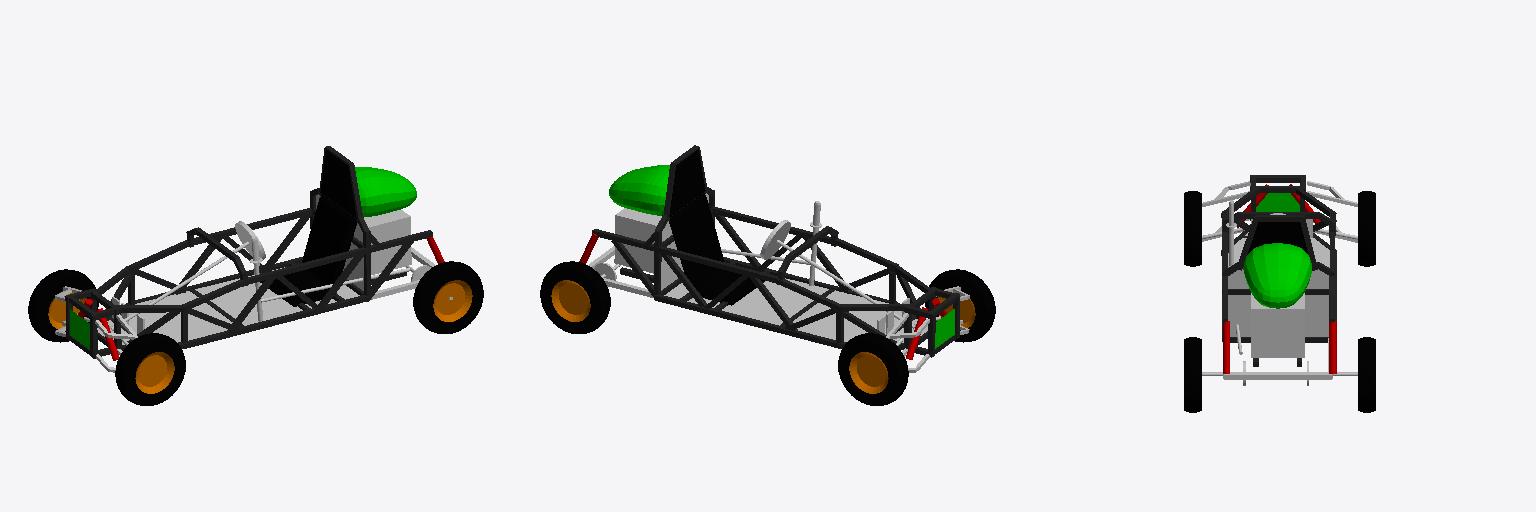
File: gokart.obj
3 views of the same model, side by side, from view 1: azimuth 30°, elevation 25°; view 2: azimuth 150°, elevation 25°; view 3: azimuth 270°, elevation 25° (orthographic).
Parts seen in each view (by area): view 1: Plane_Plane.005, Plane.001_Plane, Cylinder.003, Cylinder.019_Cylinder.022, Cylinder.006_Cylinder.009, Cube.062_Cube.025, Cube.003_Cube, Cube.006_Cube.003, Cube.060_Cube.057, Cube.020_Cube.063, Cube.005; view 2: Plane_Plane.005, Plane.001_Plane, Cylinder.006_Cylinder.009, Cylinder.018_Cylinder.021, Cylinder.003, Cube.062_Cube.025, Cube.003_Cube, Cube.005, Cube.020_Cube.063, Cube.060_Cube.057, Cylinder.011, Plane.004 (+1 smaller); view 3: Cube.062_Cube.025, Cube.003_Cube, Plane.004, Cylinder.006_Cylinder.009, Cylinder.003, Cylinder.019_Cylinder.022, Cylinder.018_Cylinder.021, Plane_Plane.005, Cube.002_Cube.028, Plane.003, Plane.001_Plane.
Part boxes in pixels (left/top/right/bottom): Plane_Plane.005: left=260, top=150, right=356, bottom=306; Plane.001_Plane: left=97, top=267, right=359, bottom=344; Cylinder.003: left=115, top=333, right=185, bottom=405; Cylinder.019_Cylinder.022: left=413, top=261, right=483, bottom=333; Cylinder.006_Cylinder.009: left=28, top=269, right=98, bottom=342; Cube.062_Cube.025: left=355, top=167, right=416, bottom=216; Cube.003_Cube: left=364, top=210, right=411, bottom=274; Cube.006_Cube.003: left=187, top=295, right=369, bottom=347; Cube.060_Cube.057: left=247, top=247, right=368, bottom=284; Cube.020_Cube.063: left=194, top=208, right=312, bottom=244; Cube.005: left=135, top=257, right=302, bottom=303; Plane_Plane.005: left=669, top=149, right=764, bottom=305; Plane.001_Plane: left=664, top=278, right=927, bottom=342; Cylinder.006_Cylinder.009: left=838, top=333, right=908, bottom=405; Cylinder.018_Cylinder.021: left=540, top=261, right=610, bottom=333; Cylinder.003: left=925, top=269, right=995, bottom=342; Cube.062_Cube.025: left=609, top=165, right=669, bottom=215; Cube.003_Cube: left=614, top=208, right=661, bottom=273; Cube.005: left=654, top=295, right=838, bottom=348; Cube.020_Cube.063: left=656, top=246, right=777, bottom=283; Cube.060_Cube.057: left=713, top=207, right=830, bottom=243; Cylinder.011: left=760, top=220, right=790, bottom=259; Plane.004: left=661, top=193, right=708, bottom=290; Cube.062_Cube.025: left=1243, top=243, right=1311, bottom=308; Cube.003_Cube: left=1251, top=293, right=1304, bottom=357; Plane.004: left=1228, top=269, right=1328, bottom=336; Cylinder.006_Cylinder.009: left=1358, top=191, right=1375, bottom=266; Cylinder.003: left=1184, top=191, right=1201, bottom=266; Cylinder.019_Cylinder.022: left=1184, top=337, right=1201, bottom=412; Cylinder.018_Cylinder.021: left=1358, top=337, right=1375, bottom=412; Plane_Plane.005: left=1247, top=222, right=1307, bottom=254; Cube.002_Cube.028: left=1224, top=372, right=1331, bottom=379; Plane.003: left=1256, top=193, right=1299, bottom=211; Plane.001_Plane: left=1228, top=232, right=1329, bottom=267.
Size of the model in its own units: 4.7 by 2 by 2.15.